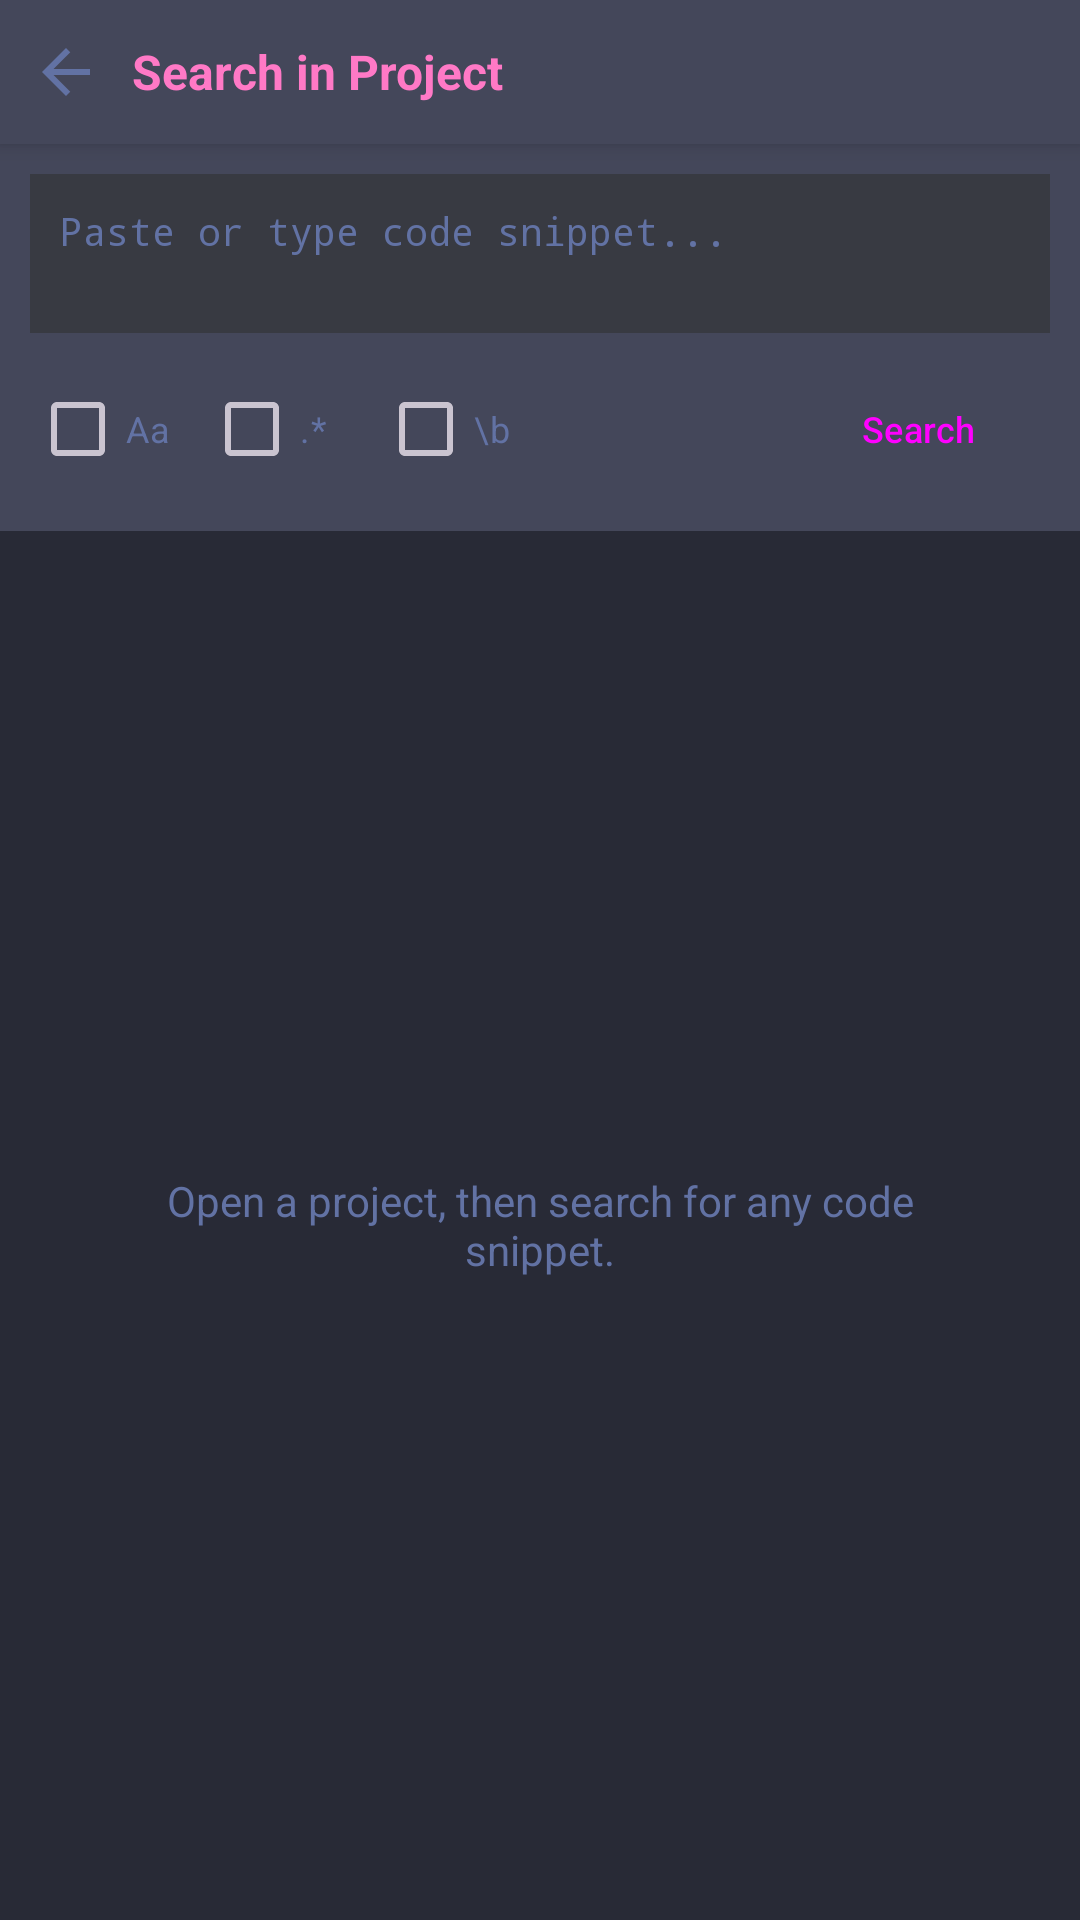

Icon bounding boxes for this 1080px x 1920px phone screenshot, format BBox(x1, y1, x2, y2):
Back: BBox(42, 48, 90, 96)
